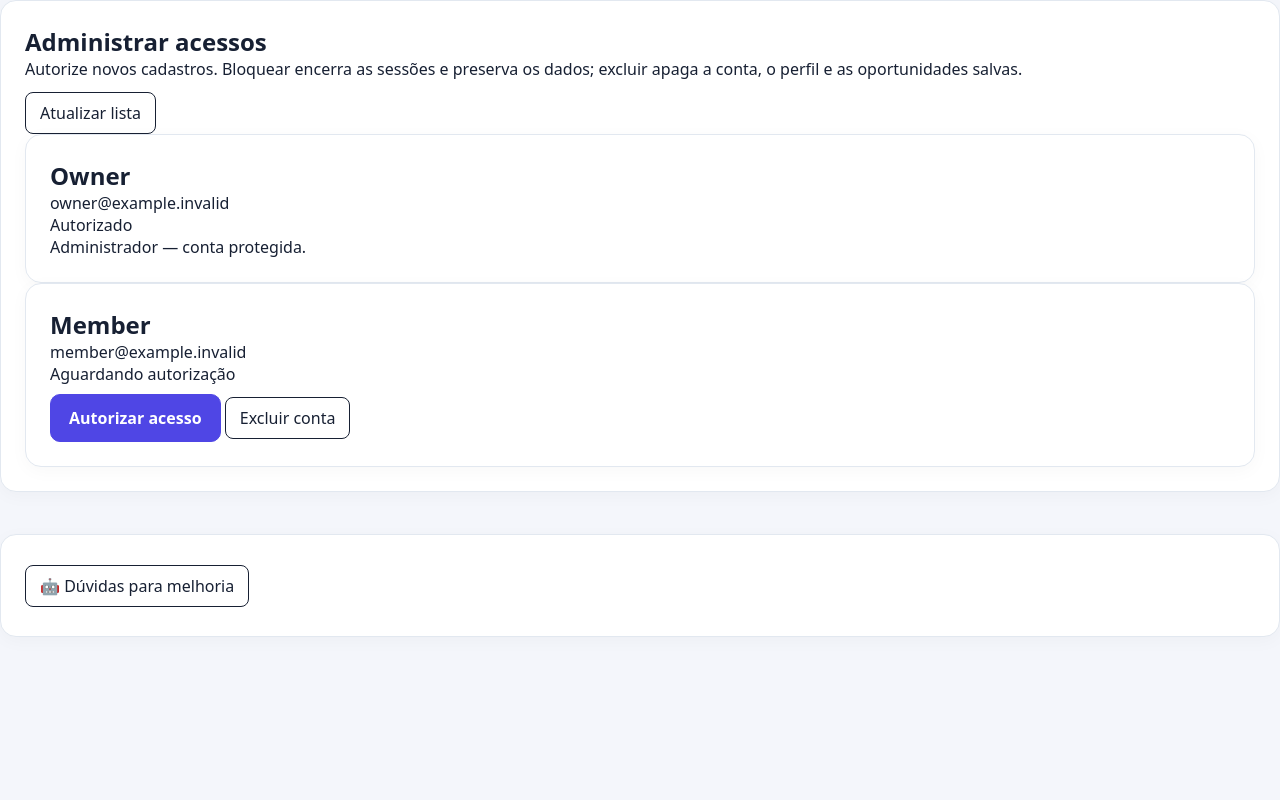
Scenario: Controle administrativo › protege a conta do administrador e só autoriza após confirmar
Step 1. Click the button "Autorizar acesso" → (135, 418), box [50, 394, 221, 442]
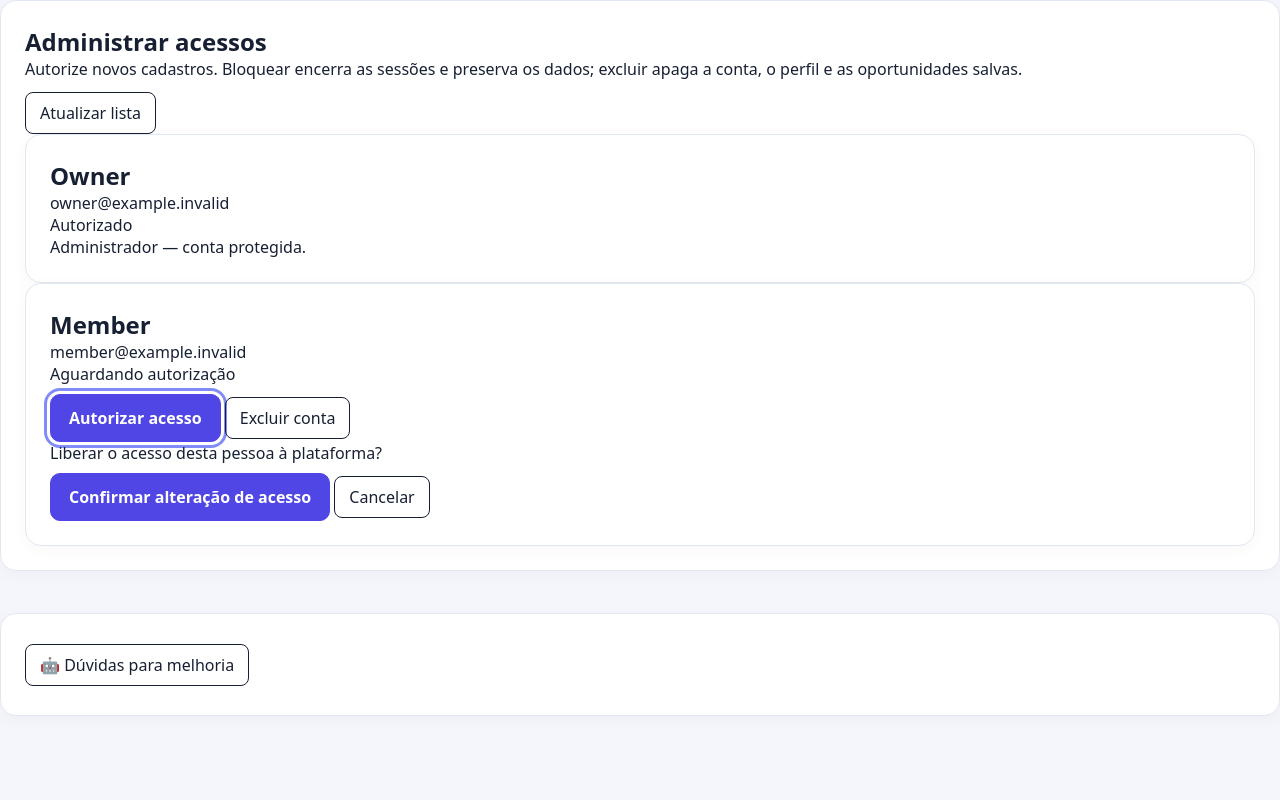
Step 2. Click the button "Confirmar alteração de acesso" → (190, 497), box [50, 473, 330, 521]
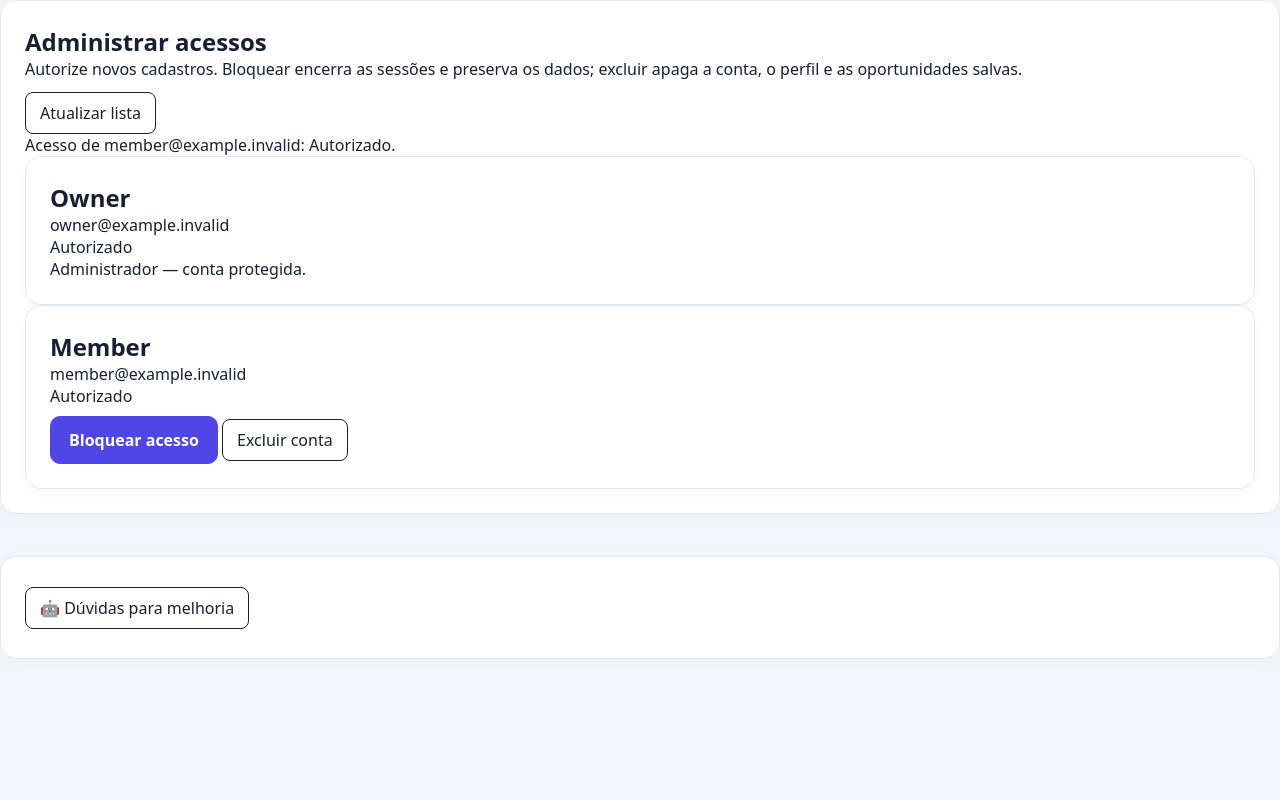
Check: the message shows "Autorizado", box [25, 134, 396, 156]
